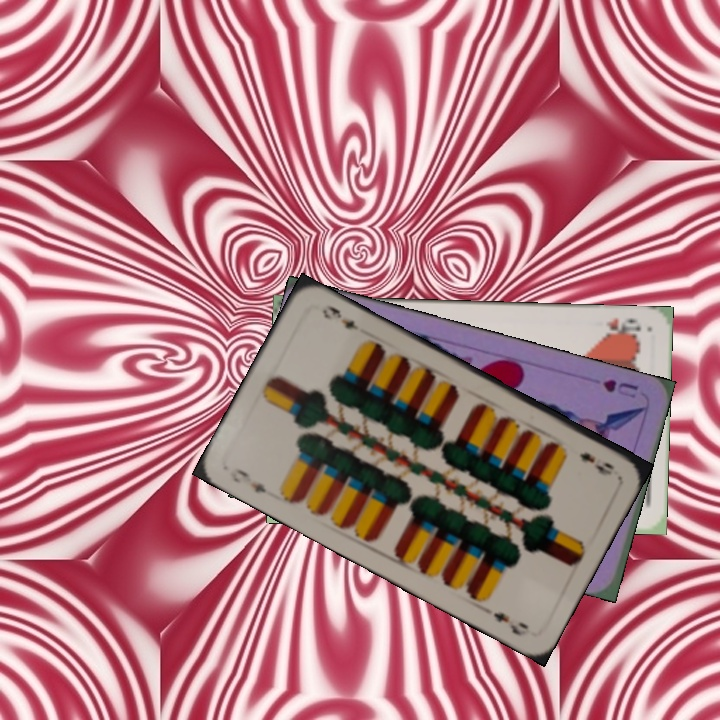E9: (225, 464, 269, 496), (575, 448, 617, 478)
HO: (597, 314, 643, 339)
HU: (598, 375, 641, 402)
